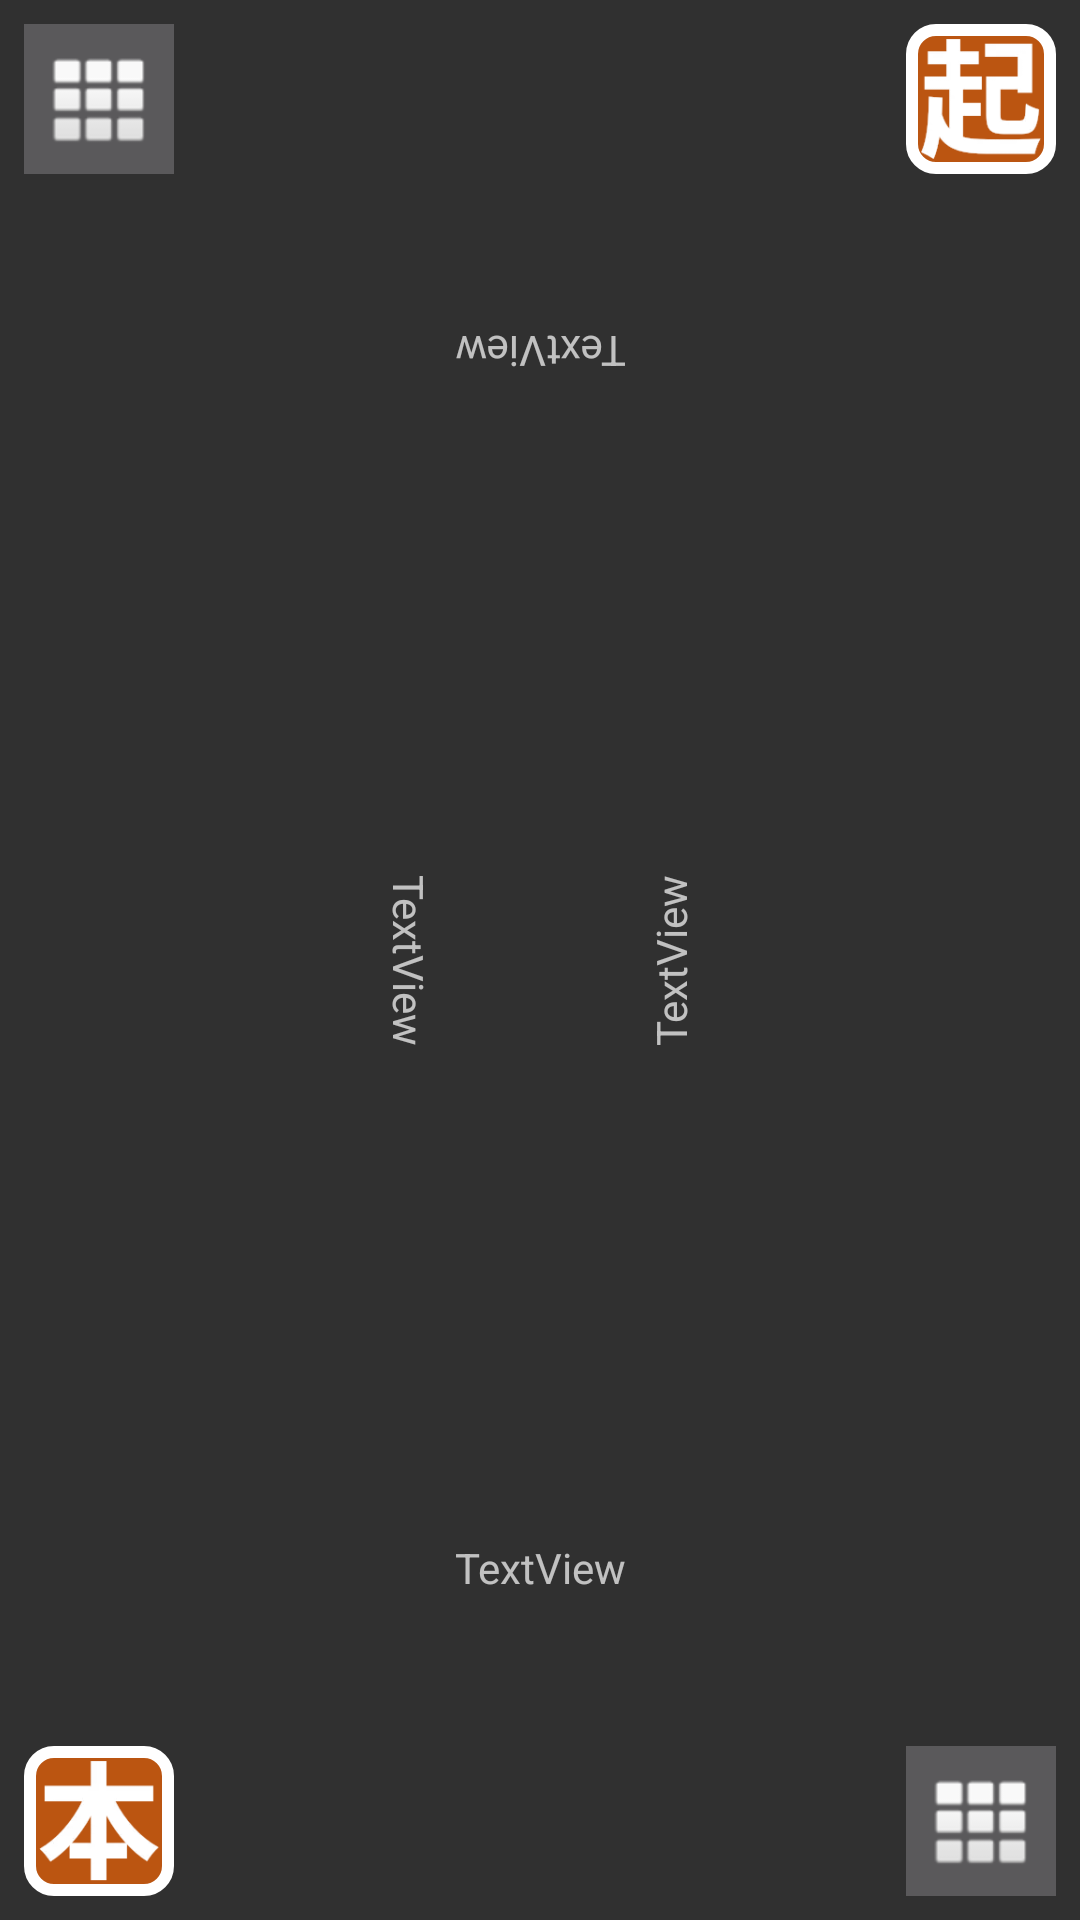

Point at icon controls on the screen. Image size 1080 x 1920, points as (x,y).
dialer: (99,99), (981,1821)
